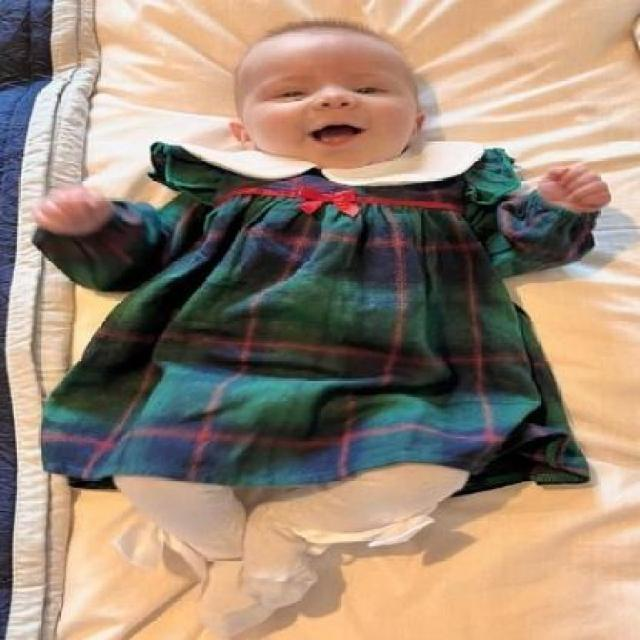baby: (29, 15, 608, 631)
